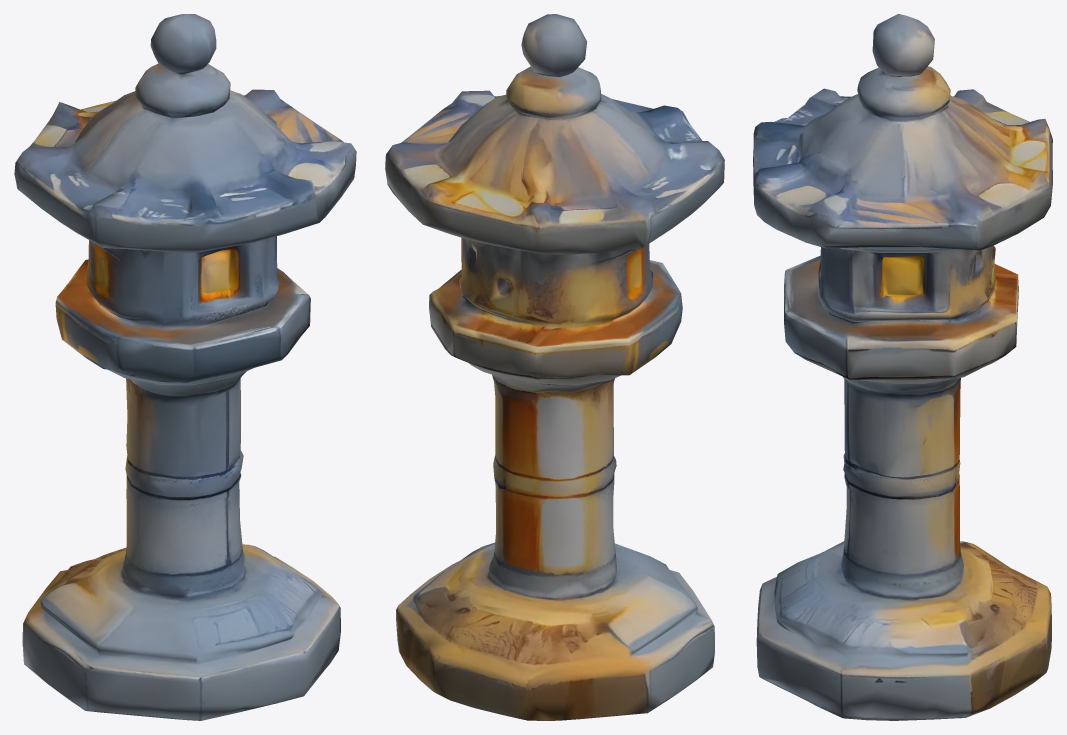
The model's file is lantern.glb.
The picture shows the model from 3 angles, left to right: view 1: azimuth 30°, elevation 25°; view 2: azimuth 150°, elevation 25°; view 3: azimuth 270°, elevation 25°; orthographic projection.
Parts seen in each view (by area): view 1: tripo_node_a6ec3740-e8ac-4238-a943-10b107abb2a5; view 2: tripo_node_a6ec3740-e8ac-4238-a943-10b107abb2a5; view 3: tripo_node_a6ec3740-e8ac-4238-a943-10b107abb2a5.
Part boxes in pixels (x1,y1,x2,y2): tripo_node_a6ec3740-e8ac-4238-a943-10b107abb2a5: [14, 14, 356, 720]; tripo_node_a6ec3740-e8ac-4238-a943-10b107abb2a5: [385, 14, 724, 720]; tripo_node_a6ec3740-e8ac-4238-a943-10b107abb2a5: [753, 14, 1052, 720].
Size of the model in its own units: 0.4357 by 1 by 0.4251.
Materials: 1 (1 with a texture image).
